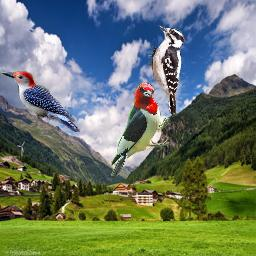Woodpecker: (108, 82, 170, 176), (1, 71, 80, 132), (148, 25, 185, 118)
